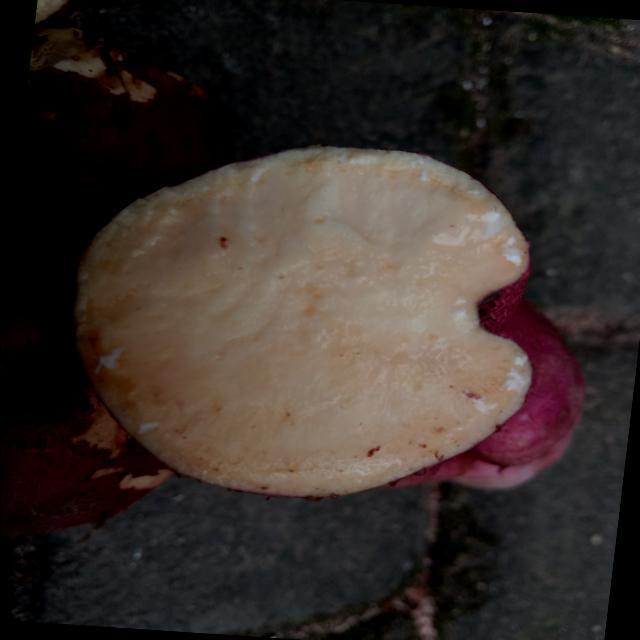Healthy Sweet Potato: (73, 146, 530, 496)
